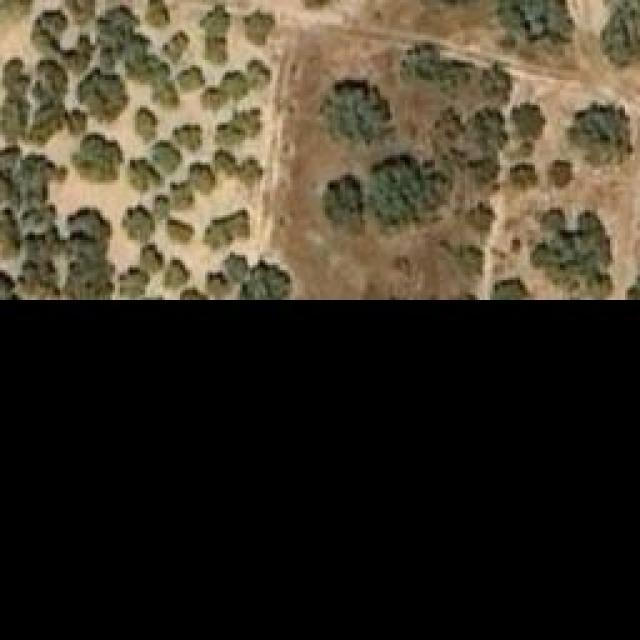Tree: (537, 210, 615, 295), (373, 160, 443, 225), (398, 35, 473, 95), (565, 105, 633, 165), (497, 0, 575, 45), (323, 85, 378, 145), (603, 0, 638, 68), (78, 75, 128, 120), (505, 105, 545, 160), (70, 135, 118, 180), (205, 208, 250, 251), (325, 183, 363, 233), (470, 107, 510, 153), (200, 5, 230, 63), (248, 260, 291, 298), (478, 63, 513, 103), (33, 63, 66, 103), (125, 157, 158, 195), (548, 160, 583, 195), (473, 150, 503, 190), (243, 13, 276, 46), (115, 265, 145, 298), (162, 30, 190, 65), (53, 250, 76, 290), (150, 143, 180, 173), (176, 65, 206, 95), (185, 165, 213, 195), (465, 203, 493, 233), (540, 203, 568, 233), (215, 118, 243, 148), (493, 278, 528, 301), (510, 162, 538, 190), (175, 122, 203, 150), (160, 260, 188, 288), (455, 247, 483, 275), (145, 0, 170, 30), (125, 208, 150, 238), (153, 88, 183, 112), (133, 110, 158, 138), (137, 243, 165, 268), (205, 272, 230, 300), (225, 255, 250, 283), (213, 147, 238, 175), (200, 88, 225, 113), (220, 70, 245, 95), (165, 220, 190, 243), (0, 0, 30, 18), (150, 193, 170, 218)
